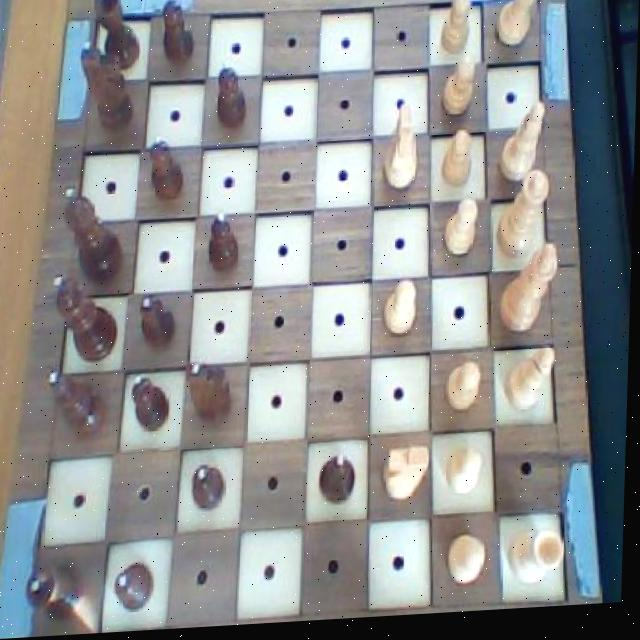bishop: (45, 367, 111, 449), (318, 457, 360, 512)
black-bishop: (51, 271, 123, 365)
black-king: (78, 40, 142, 141), (183, 359, 241, 434)
black-knight: (210, 56, 251, 134), (146, 135, 191, 206), (128, 373, 175, 438), (156, 0, 198, 71), (136, 293, 182, 357), (113, 559, 161, 615), (207, 208, 244, 279), (193, 462, 232, 516)
black-pawn: (61, 181, 129, 287)
black-queen: (92, 0, 146, 79), (28, 563, 90, 621)
black-rook: (496, 102, 553, 192), (503, 345, 564, 419)
white-bishop: (498, 246, 564, 344)
white-king: (379, 105, 426, 198), (381, 443, 434, 510)
white-knight: (446, 530, 493, 596), (443, 444, 489, 507), (381, 280, 424, 347), (438, 59, 481, 126), (441, 199, 483, 265), (444, 361, 489, 422), (441, 133, 478, 199), (438, 0, 475, 63)
white-pawn: (494, 173, 552, 272)
white-queen: (507, 522, 573, 596), (492, 0, 549, 58)
